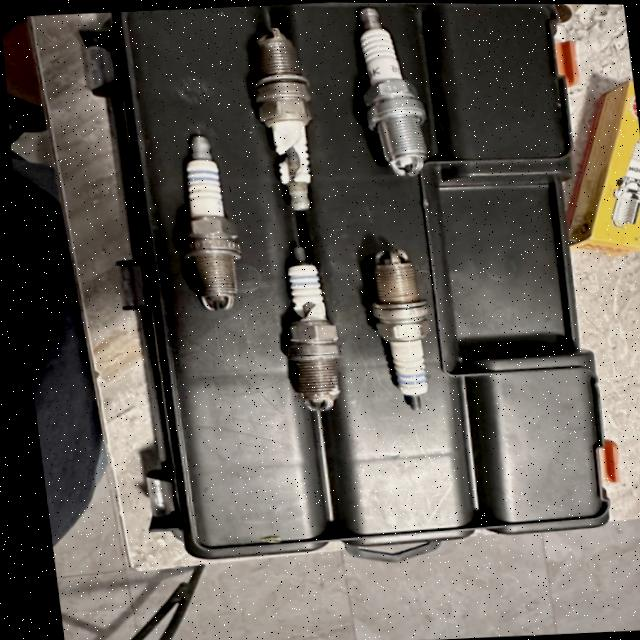damaged_spark-plug: (243, 24, 318, 212), (271, 241, 342, 412)
spark-plug: (344, 2, 435, 177), (172, 130, 241, 310), (357, 242, 426, 411)
